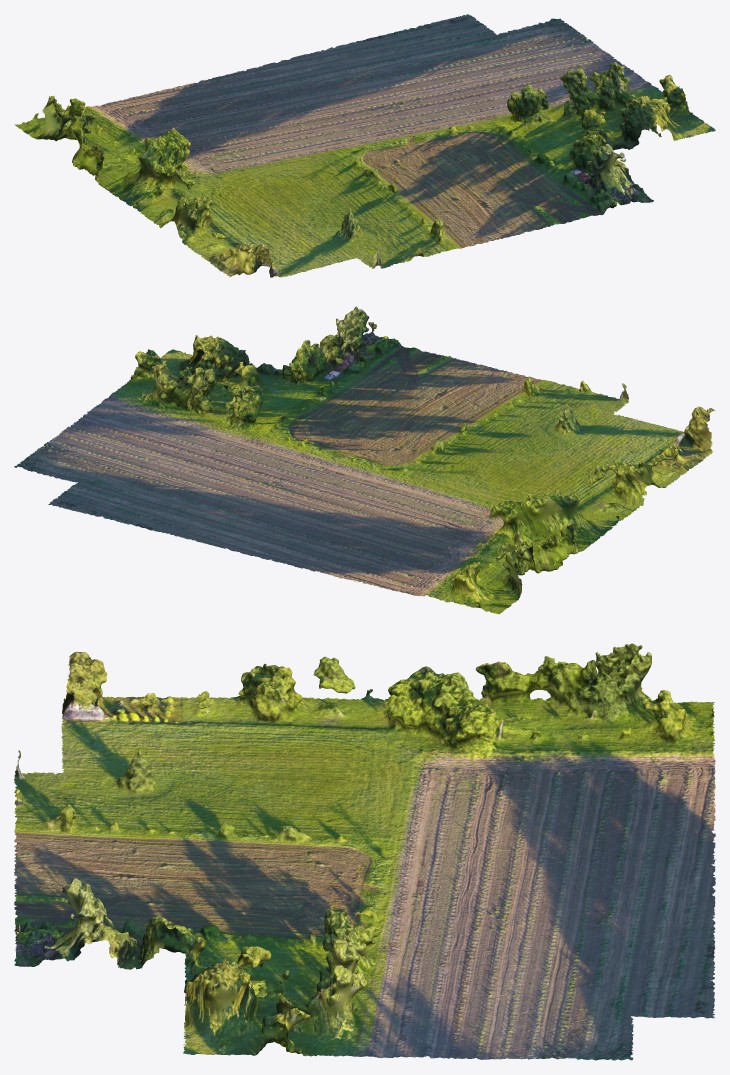
The model's file is field_and_garden.glb.
The picture shows the model from 3 angles, top to bottom: view 1: azimuth 30°, elevation 25°; view 2: azimuth 150°, elevation 25°; view 3: azimuth 270°, elevation 25°; orthographic projection. The views are drawn at different scales.
Parts seen in each view (by area): view 1: Object_3, Object_2, Object_4; view 2: Object_3, Object_2, Object_4; view 3: Object_3, Object_2, Object_4.
Boxes of the visible parts, x1,y1,x2,y2 form: Object_3: [15, 14, 715, 277]; Object_2: [32, 62, 710, 277]; Object_4: [42, 72, 685, 276]; Object_3: [14, 349, 710, 614]; Object_2: [127, 306, 715, 608]; Object_4: [133, 322, 712, 591]; Object_3: [36, 656, 715, 1060]; Object_2: [14, 643, 713, 1056]; Object_4: [14, 659, 686, 1050].
Size of the model in its own units: 92.82 by 9.92 by 76.52.
Materials: 1 (1 with a texture image).
